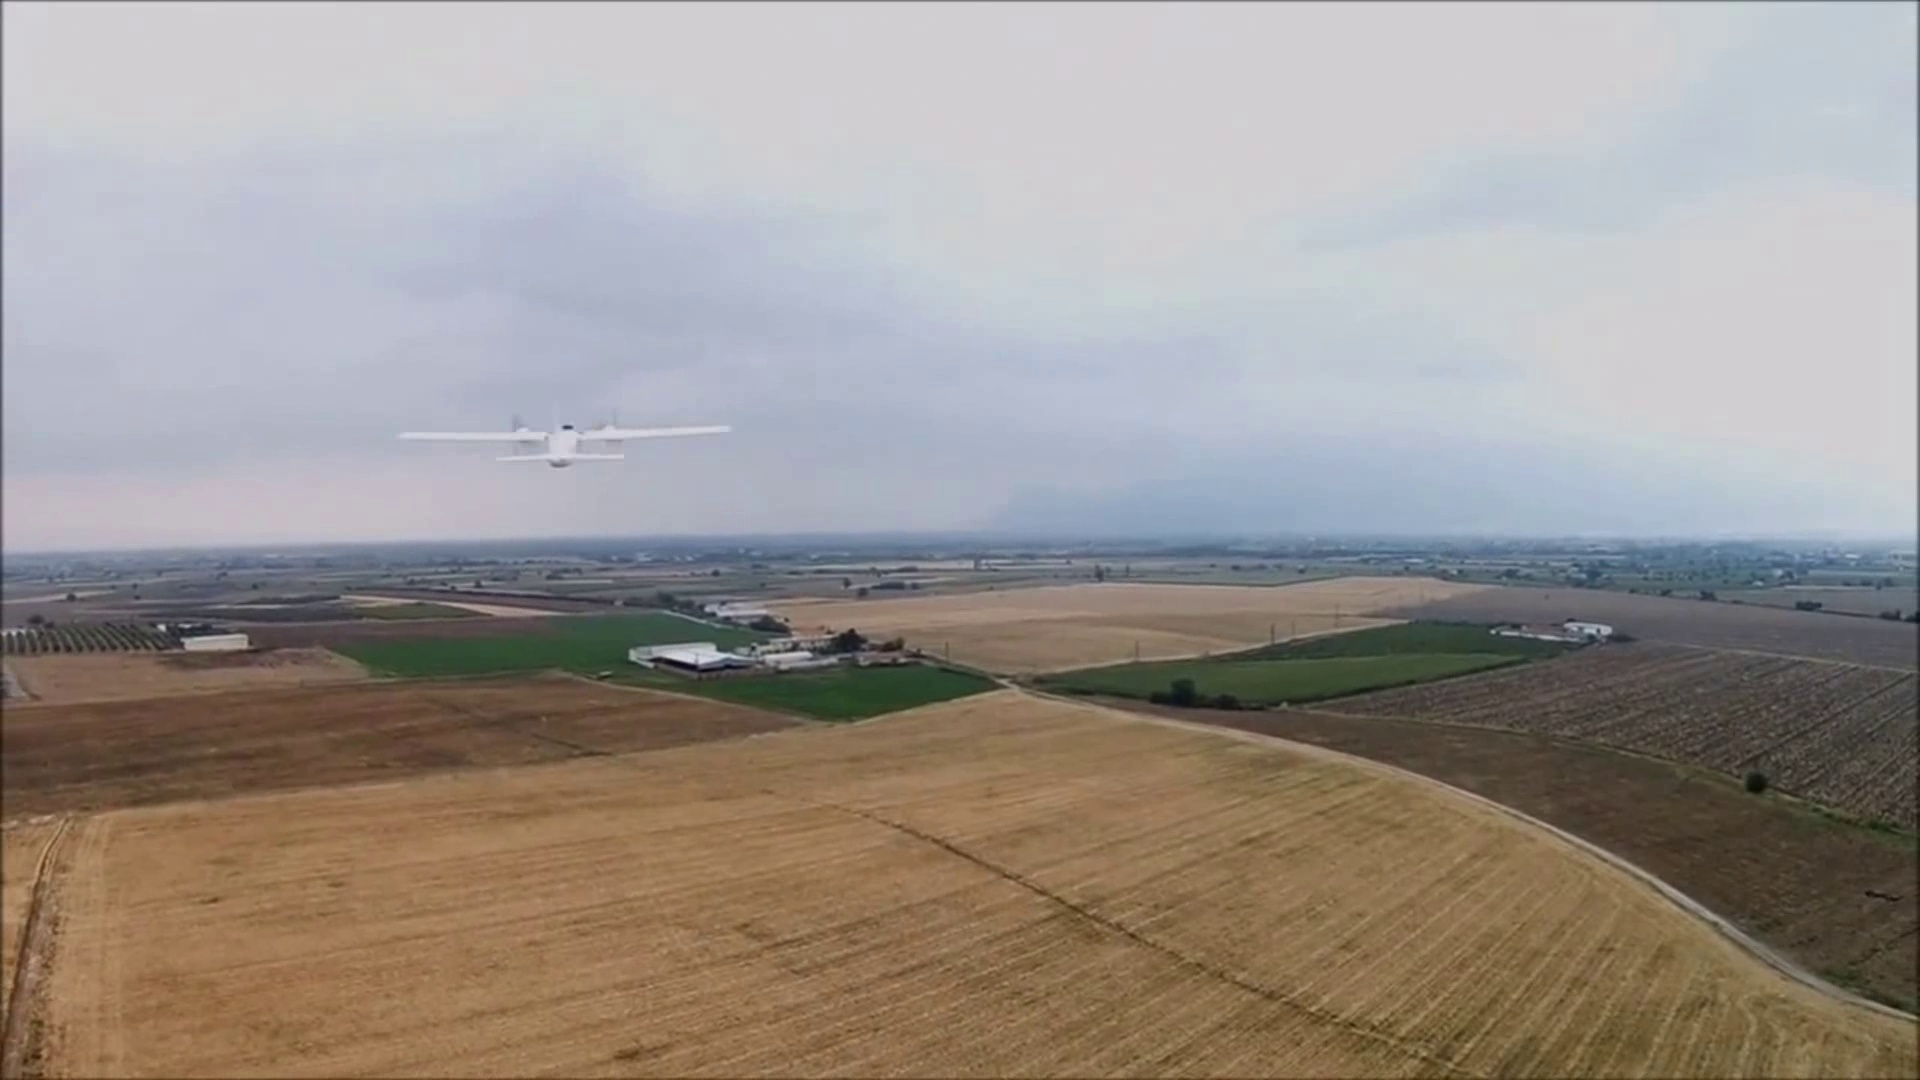airplane: (396, 415, 731, 463)
